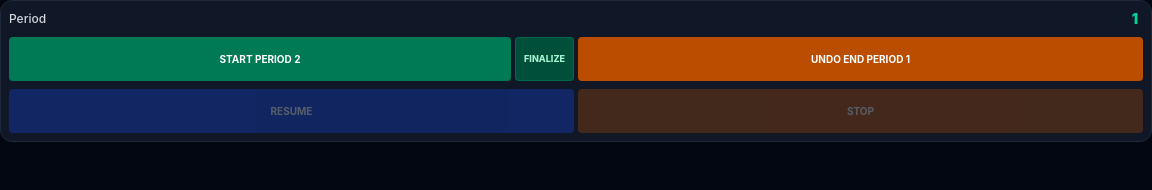
Scenario: MatchLifecyclePanel Component Integration & State Machine › should keep period 2 inactive if startPeriodWithRoster fails during START PERIOD 2
The image size is (1152, 190).
Click the button "START PERIOD 2". click: (260, 59)
box: [9, 37, 511, 81]
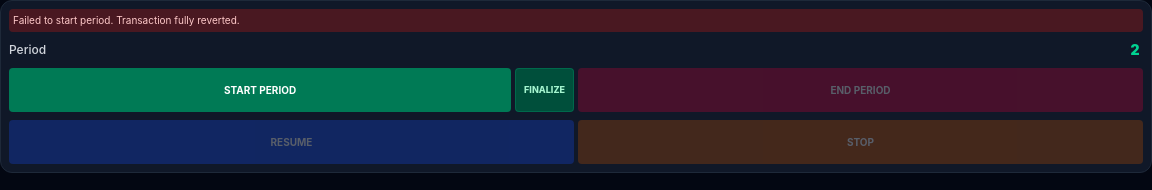
Check: the message reads "Failed to start period. Transaction fully reverted.", box [13, 14, 240, 26]
